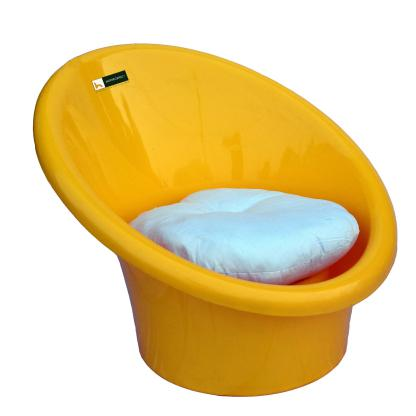chair: (24, 43, 404, 405)
